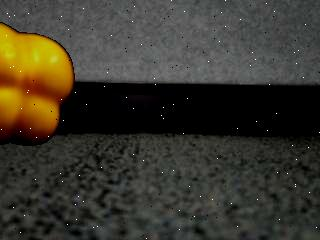Capsicum: (0, 23, 76, 146)
